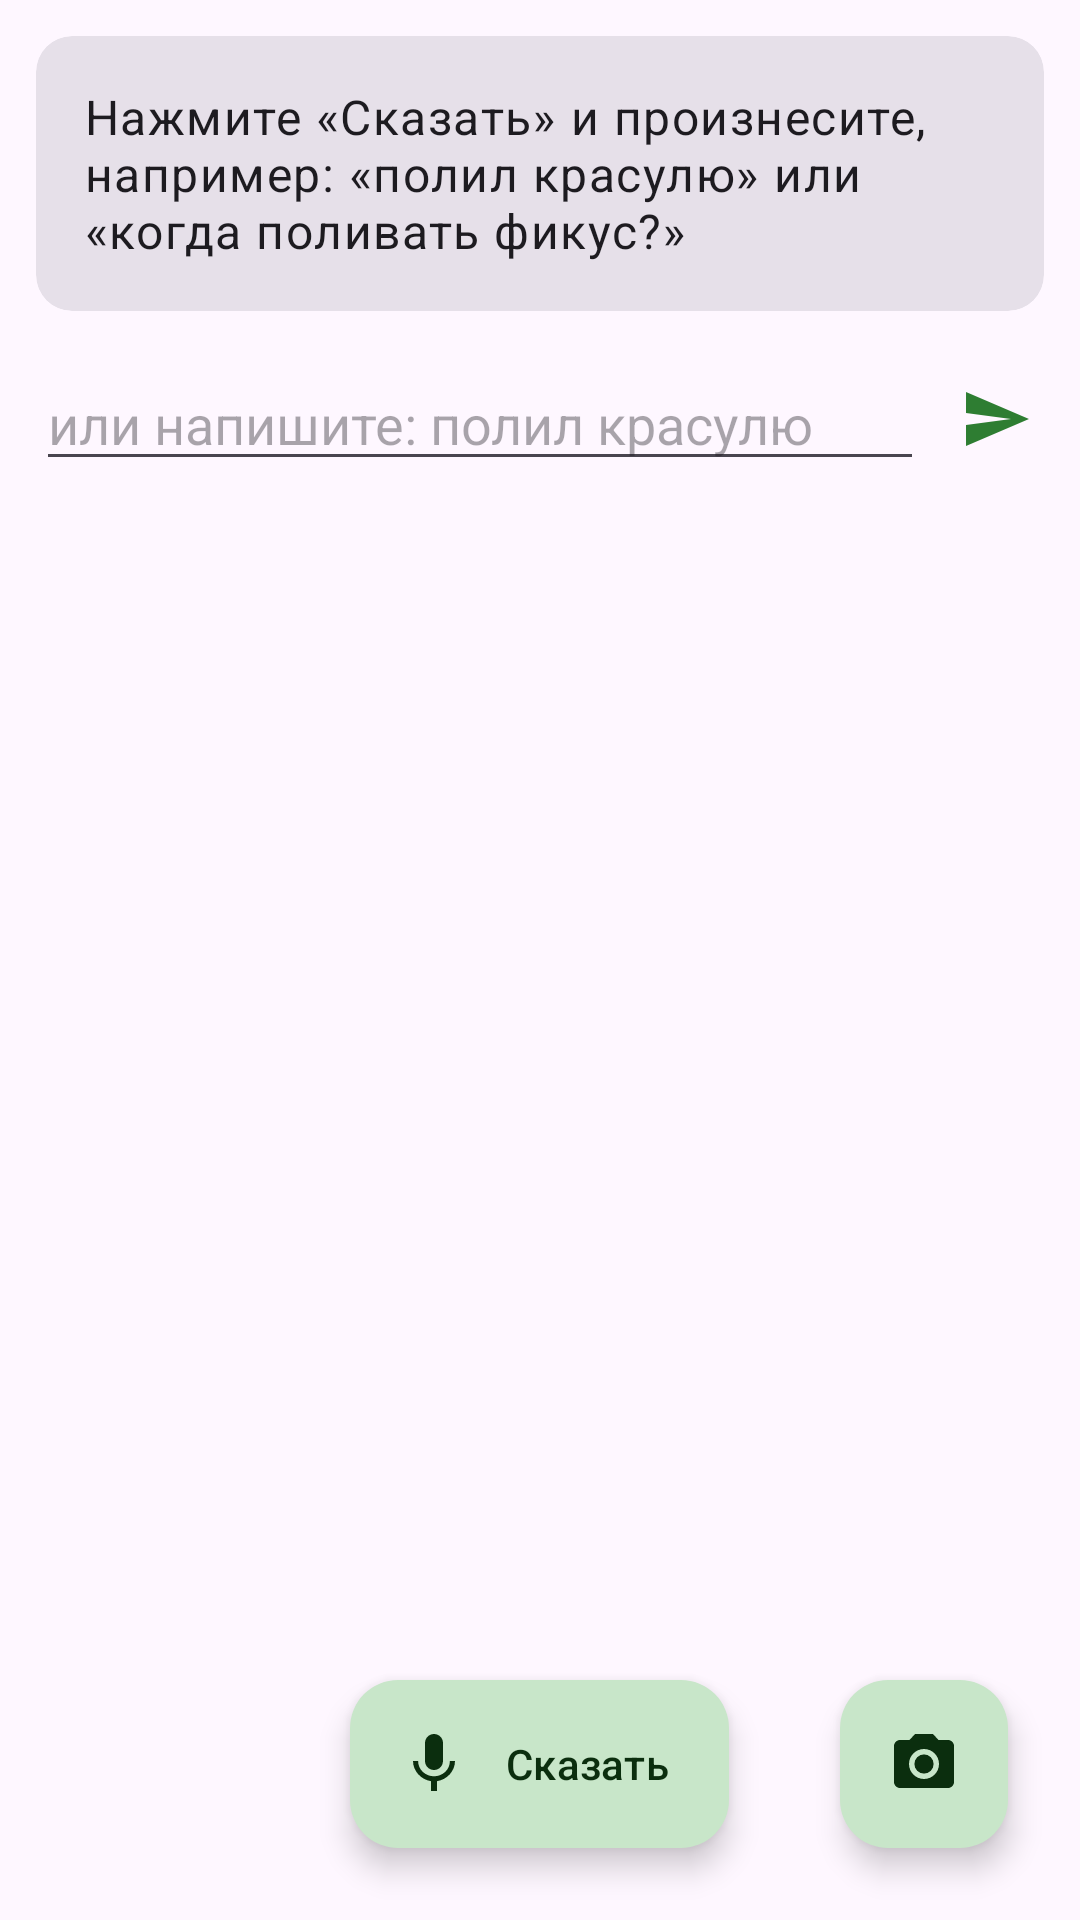

Icons on this 1080px×1920px Android screen, each with the point to tap as point (x, y):
Отправить: point (997, 419)
Узнать по фото: point (924, 1764)
